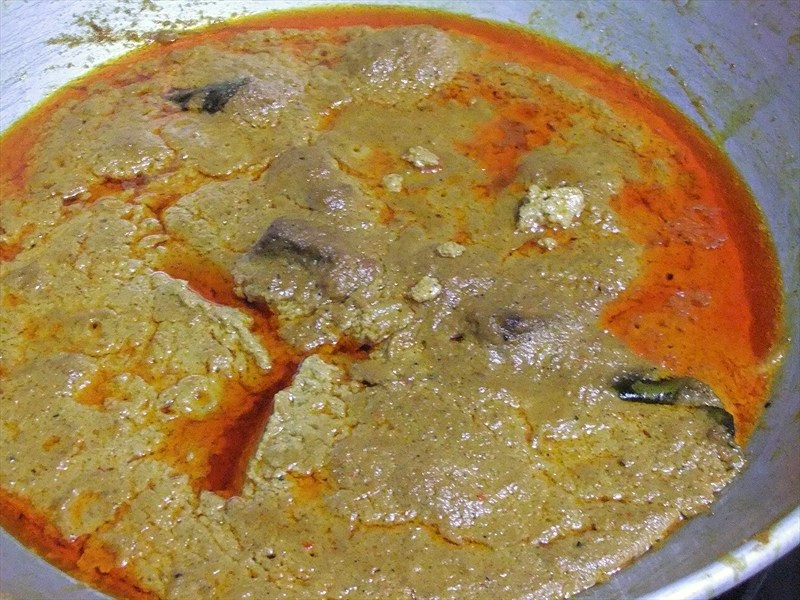Rendang: (47, 17, 784, 581)
